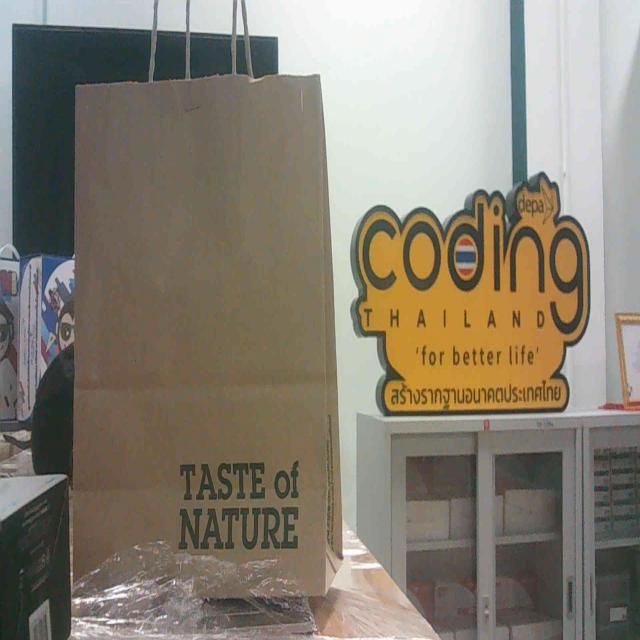bag: (56, 56, 381, 612)
